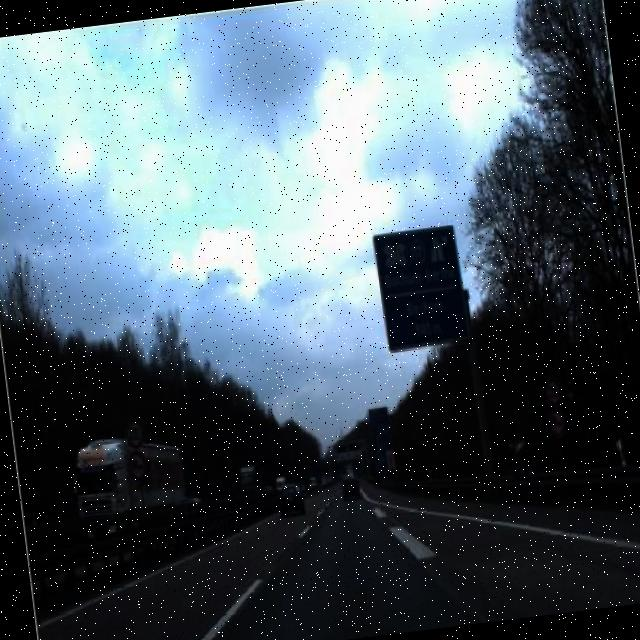Ograniczenie predkosci do 120: (122, 412, 148, 452), (540, 371, 566, 408)
Zakaz wyprzedzania: (544, 404, 571, 442), (125, 448, 148, 487)
